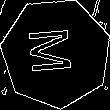M_E: (29, 28, 83, 78)
